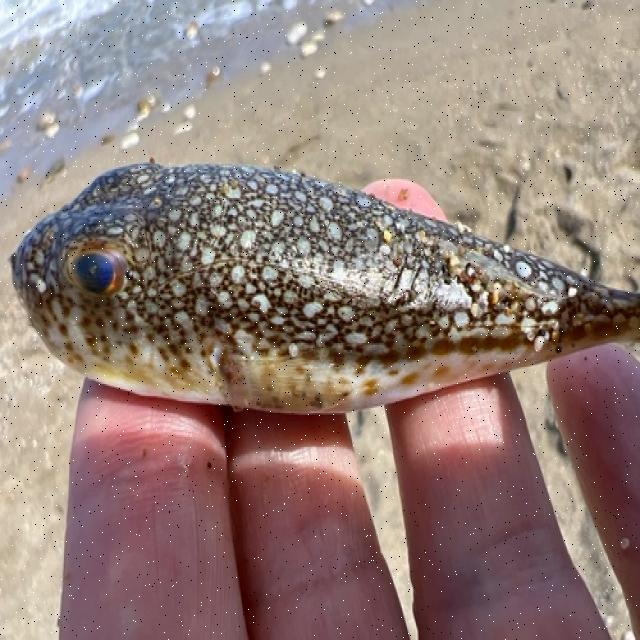Balik: (12, 164, 639, 413)
